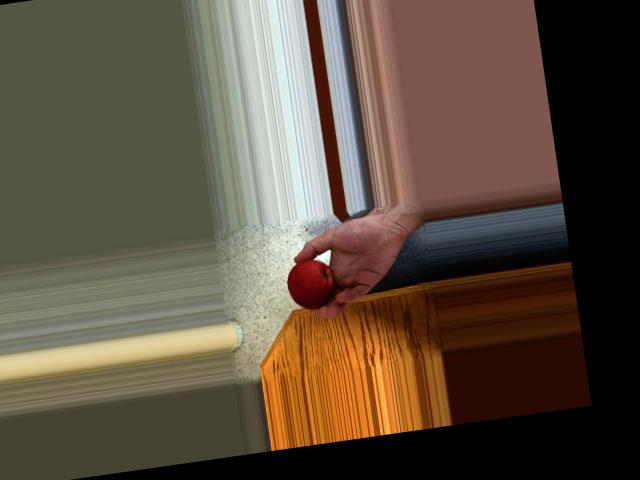apple: (284, 253, 342, 312)
